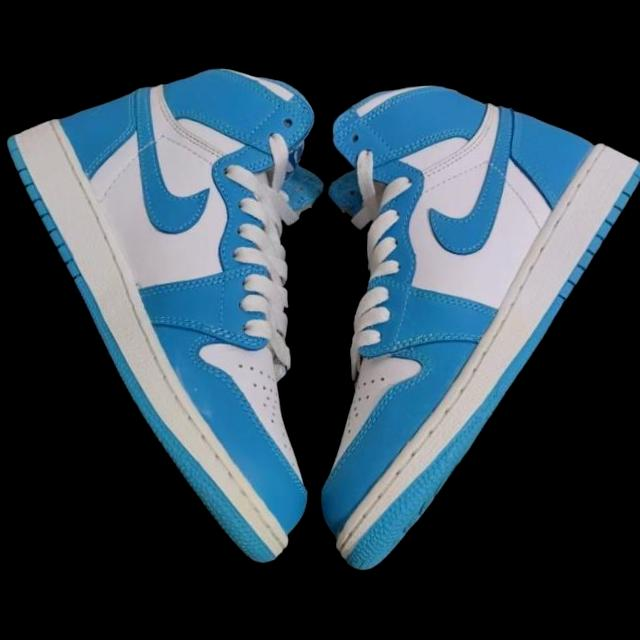nike_original_jordan: (0, 53, 334, 565), (313, 78, 640, 579)
